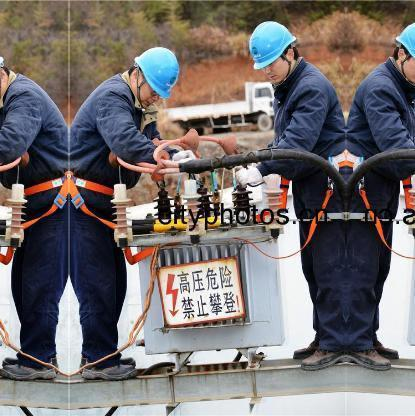helmet: (132, 42, 184, 100), (250, 20, 296, 69)
